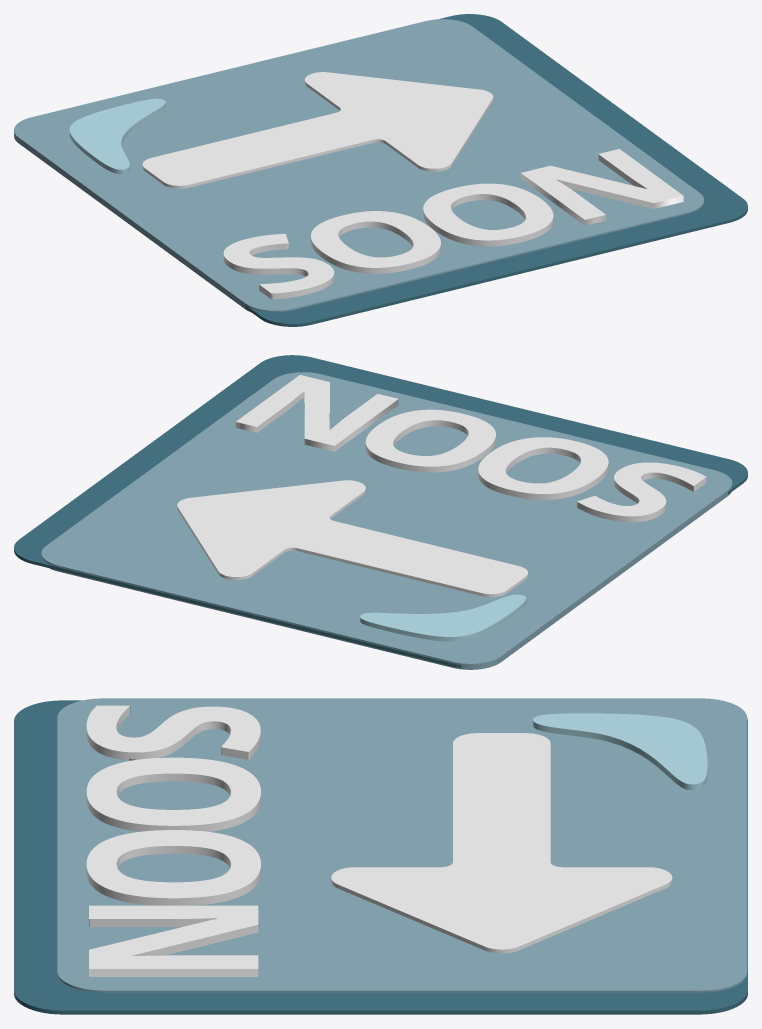
File: emoji_u1f51c.glb
The picture shows the model from 3 angles, top to bottom: view 1: azimuth 30°, elevation 25°; view 2: azimuth 150°, elevation 25°; view 3: azimuth 270°, elevation 25°; orthographic projection. The views are drawn at different scales.
Parts seen in each view (by area): view 1: emoji_u1f51c; view 2: emoji_u1f51c; view 3: emoji_u1f51c.
Part boxes in pixels (bbox=[...]): emoji_u1f51c: bbox=[14, 14, 747, 326]; emoji_u1f51c: bbox=[14, 355, 747, 669]; emoji_u1f51c: bbox=[14, 698, 747, 1014].
Size of the model in its own units: 0.0339 by 0.0012 by 0.0339.
